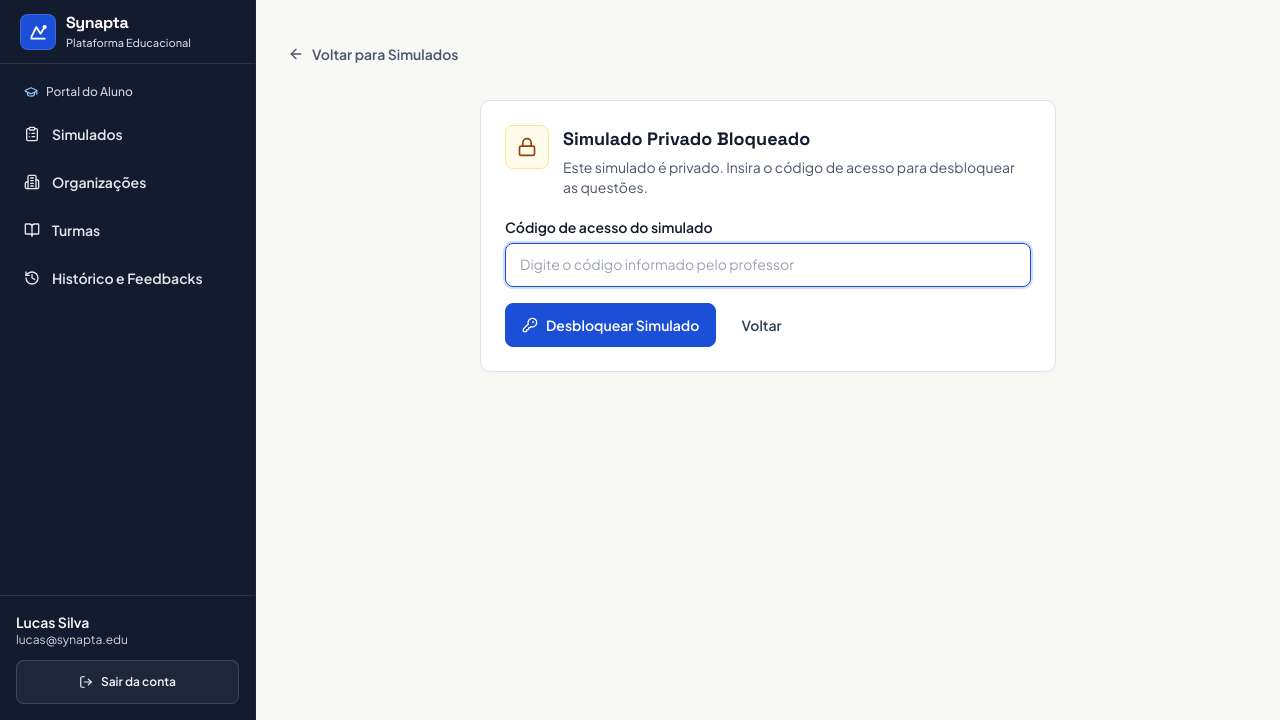
HierarchyAndAccessCodes › trata 403 LIST_LOCKED ao acessar URL direta do simulado privado e permite desbloquear ali mesmo
This screenshot has width=1280, height=720.
Expected: the heading "Simulado Privado Bloqueado" is shown, [563, 127, 810, 150]
Step 1. Type "DESAFIO26" into the field labelled "Código de acesso do simulado" → (768, 265), box [505, 243, 1031, 287]
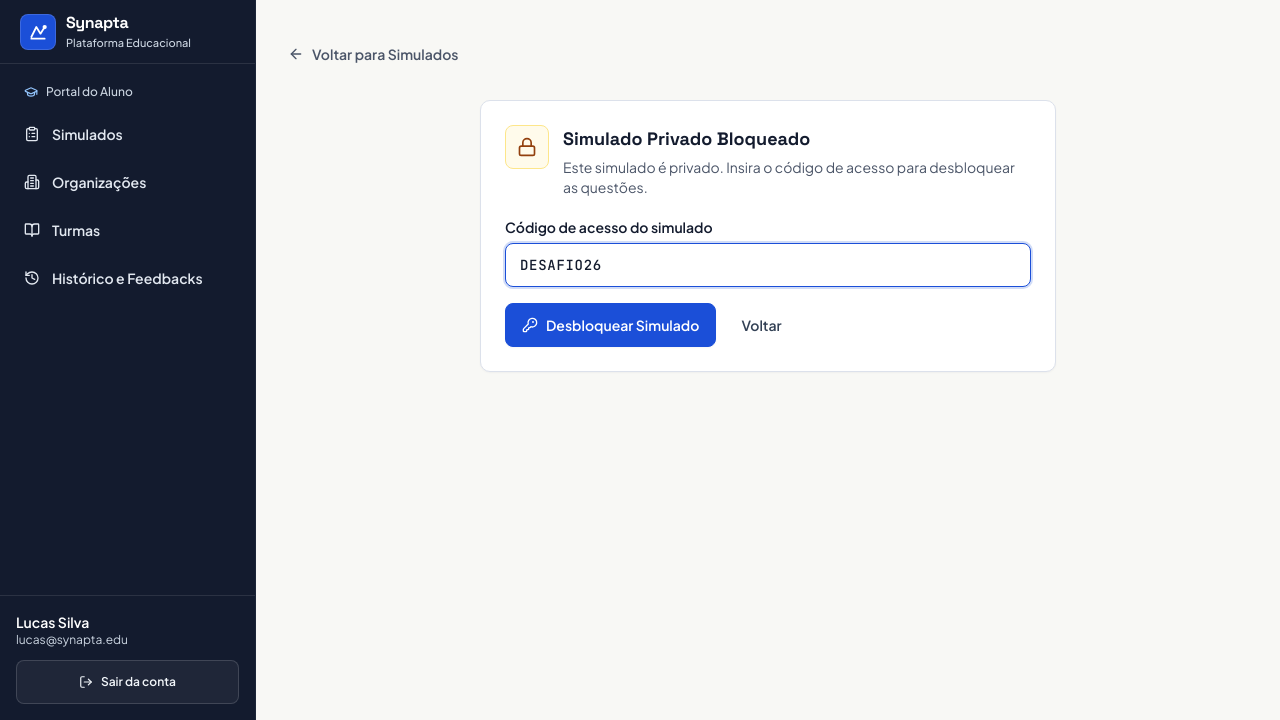
Step 2. Click the button "Desbloquear Simulado" → click(611, 325), box [505, 303, 716, 347]
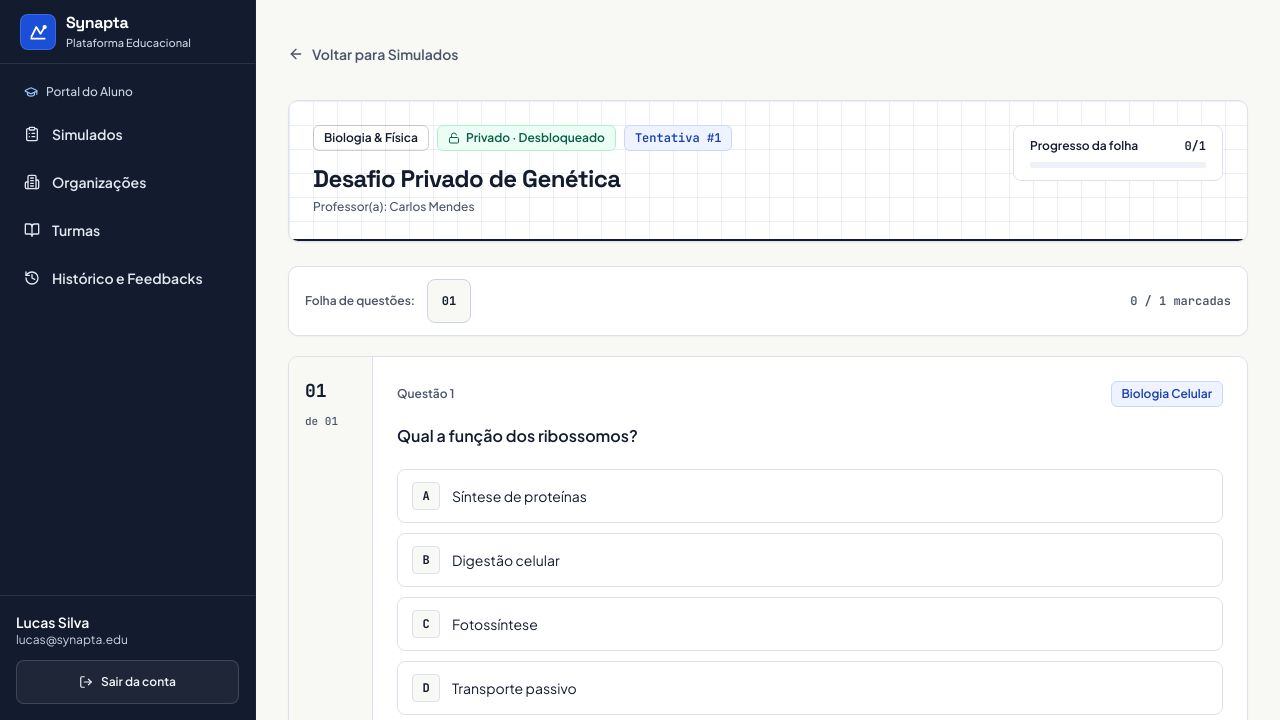
Now the text "Qual a função dos ribossomos?" is shown, box [397, 425, 638, 446]
